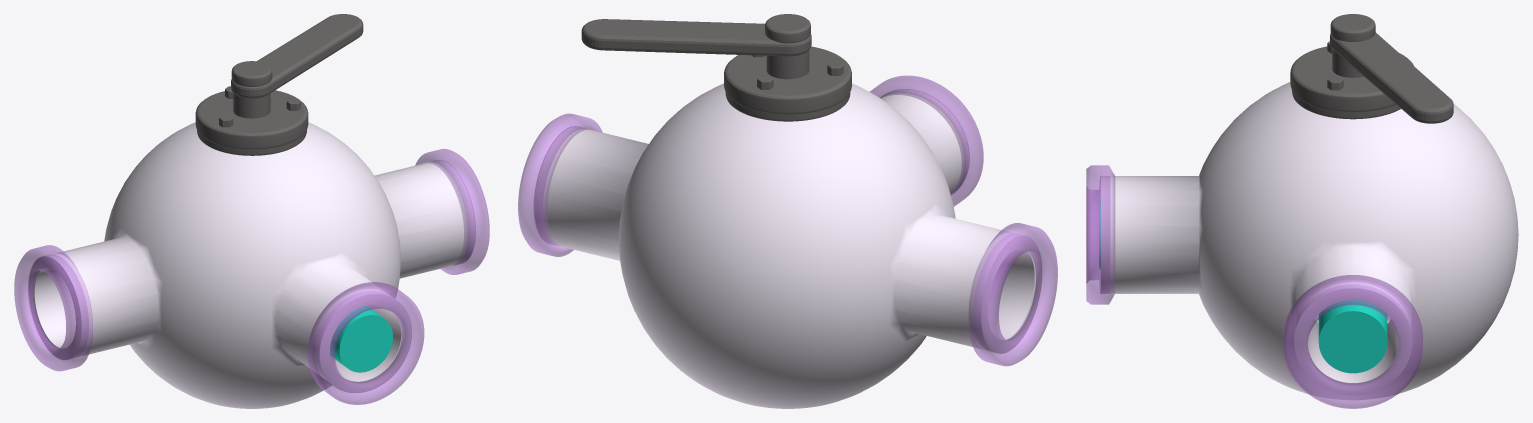
Rendered from api-gateway-mapping.glb.
3 renders of one model, left to right at view 1: azimuth 30°, elevation 25°; view 2: azimuth 150°, elevation 25°; view 3: azimuth 270°, elevation 25°, orthographic. The views are drawn at different scales.
Visible parts, largest first — view 1: Transparent three-port housing, Common inlet flange, Idle left outlet flange, Bonnet, Nickel selector lever, Selected right outlet flange, Selected inlet-to-right L passage, Pivot cap, Quarter-turn spindle, Bonnet gasket; view 2: Transparent three-port housing, Idle left outlet flange, Nickel selector lever, Bonnet, Selected right outlet flange, Common inlet flange, Pivot cap, Quarter-turn spindle, Bonnet gasket; view 3: Transparent three-port housing, Selected right outlet flange, Nickel selector lever, Selected inlet-to-right L passage, Common inlet flange, Bonnet, Pivot cap, Bonnet gasket, Quarter-turn spindle.
Boxes of the visible parts, x1,y1,x2,y2 form: Transparent three-port housing: (29,122,474,408); Common inlet flange: (307,282,424,404); Idle left outlet flange: (14,245,92,371); Bonnet: (195,90,308,149); Nickel selector lever: (231,14,363,98); Selected right outlet flange: (415,149,489,274); Selected inlet-to-right L passage: (330,306,392,372); Pivot cap: (231,61,272,86); Quarter-turn spindle: (233,93,270,118); Bonnet gasket: (197,130,306,155); Transparent three-port housing: (535,83,1040,408); Idle left outlet flange: (968,223,1057,366); Nickel selector lever: (581,19,811,56); Bonnet: (724,46,851,114); Selected right outlet flange: (518,113,602,256); Common inlet flange: (870,75,983,206); Pivot cap: (765,14,810,43); Quarter-turn spindle: (766,50,809,79); Bonnet gasket: (725,92,850,121); Transparent three-port housing: (1101,82,1518,399); Selected right outlet flange: (1283,275,1422,408); Nickel selector lever: (1330,32,1453,123); Selected inlet-to-right L passage: (1099,201,1387,373); Common inlet flange: (1086,165,1114,304); Bonnet: (1290,46,1413,111); Pivot cap: (1330,14,1375,41); Bonnet gasket: (1292,90,1400,119); Quarter-turn spindle: (1332,49,1363,77).
Size of the model in its own units: 3.32 by 2.49 by 2.69.
